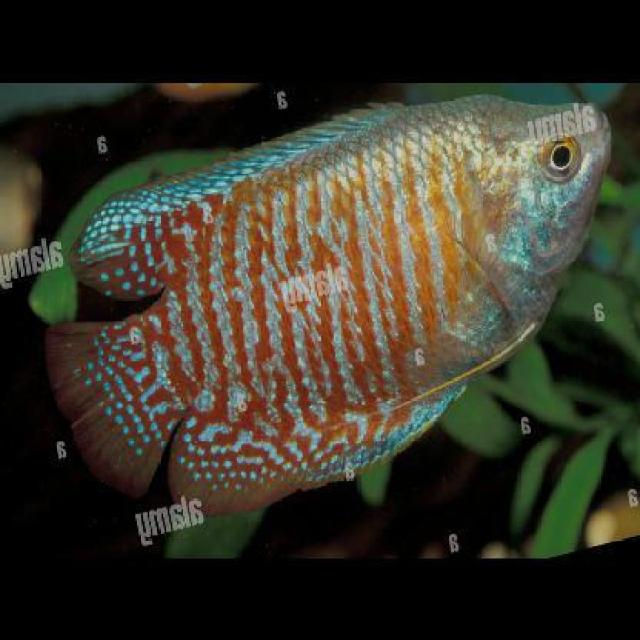Gourami: (42, 94, 608, 512)
